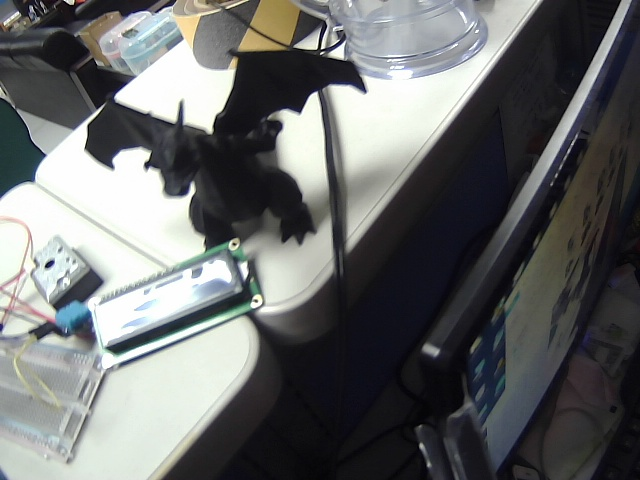charizard: (71, 31, 408, 266)
